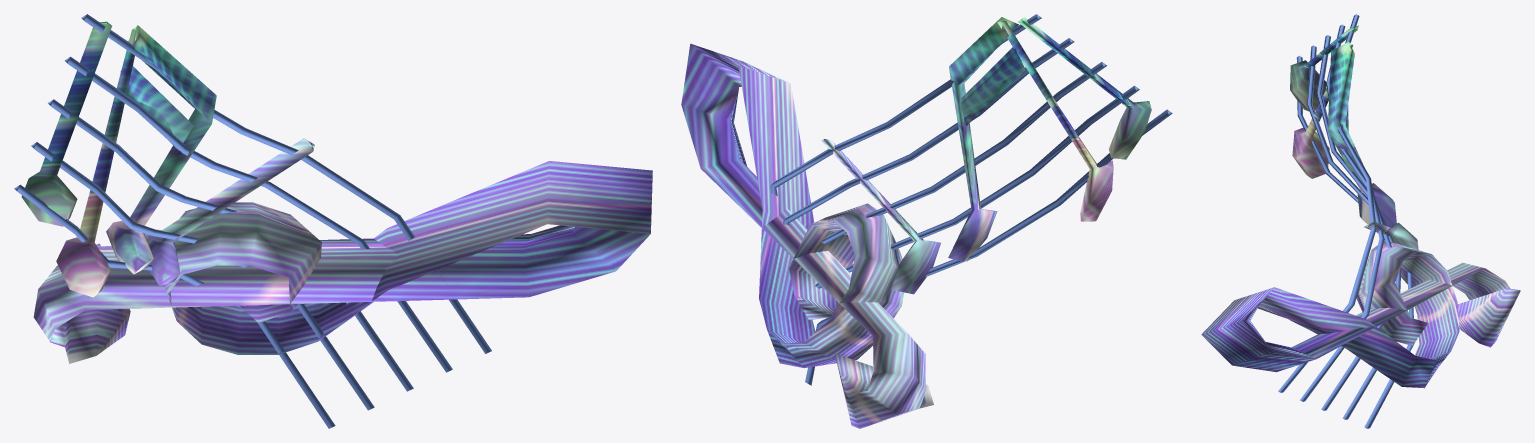
Rendered from etude.ico.obj.
3 views of the same model, side by side, from view 1: azimuth 30°, elevation 25°; view 2: azimuth 150°, elevation 25°; view 3: azimuth 270°, elevation 25° (orthographic). The views are drawn at different scales.
Bounding box in the file's own units: 4.84 × 3.75 × 3.28.
Materials: 1 (1 with a texture image).
